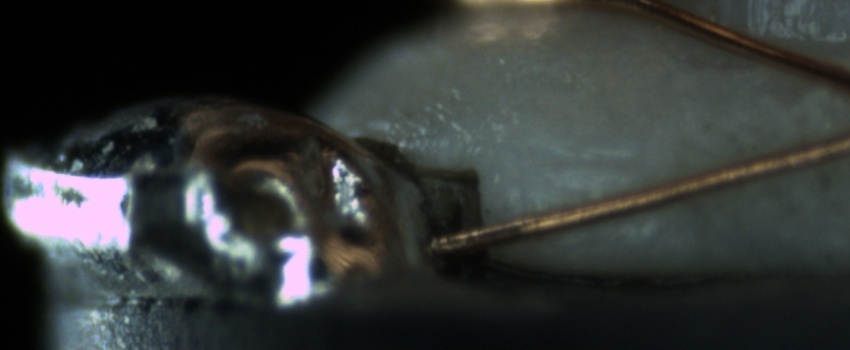DL: (527, 128, 657, 191)
